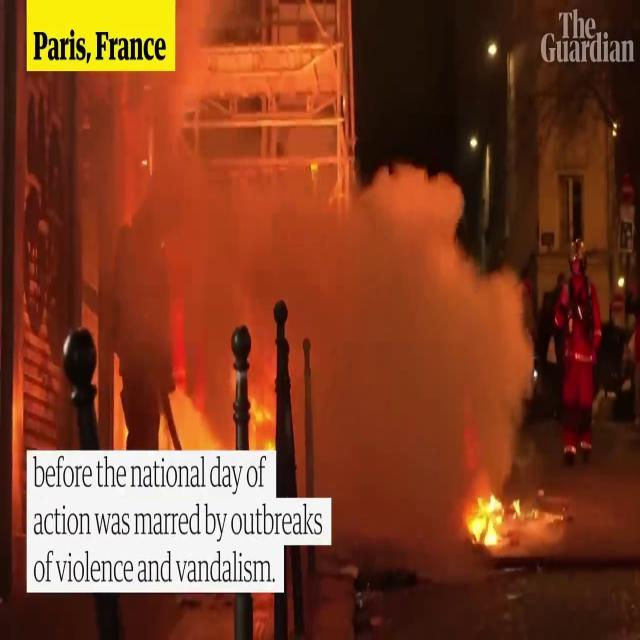Fire: (464, 484, 511, 554)
Smoke: (77, 66, 350, 398), (318, 162, 524, 578)
